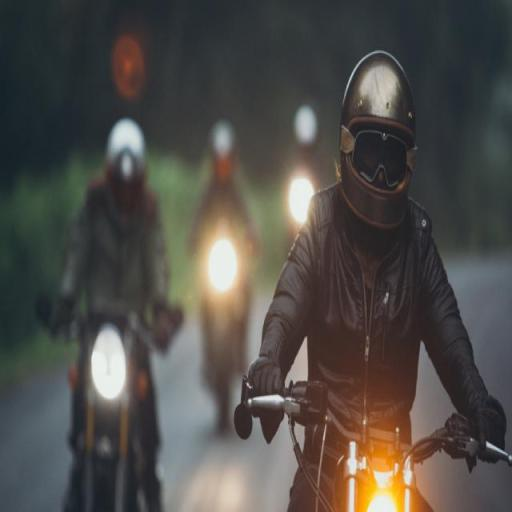Helmet: (334, 55, 415, 238), (98, 118, 152, 231), (209, 120, 240, 193)
Motor: (257, 372, 499, 512), (37, 293, 182, 512), (177, 225, 258, 417)
